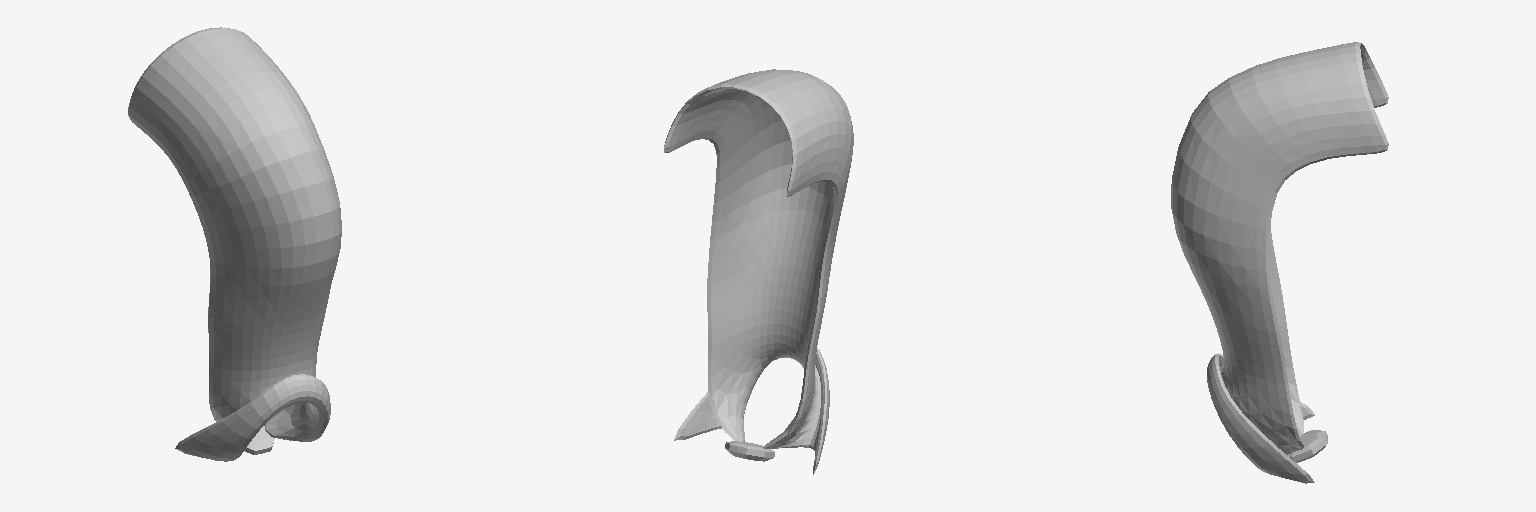
The model's file is trixie-cape.obj.
The picture shows the model from 3 angles: view 1: azimuth 30°, elevation 25°; view 2: azimuth 150°, elevation 25°; view 3: azimuth 270°, elevation 25°; orthographic projection.
Visible parts, largest first — view 1: _SMD_root_; view 2: _SMD_root_; view 3: _SMD_root_.
Boxes of the visible parts, <box> form: _SMD_root_: <box>128,27,341,461</box>; _SMD_root_: <box>664,69,853,474</box>; _SMD_root_: <box>1171,42,1388,483</box>.
Size of the model in its own units: 0.1881 by 0.4724 by 0.2321.